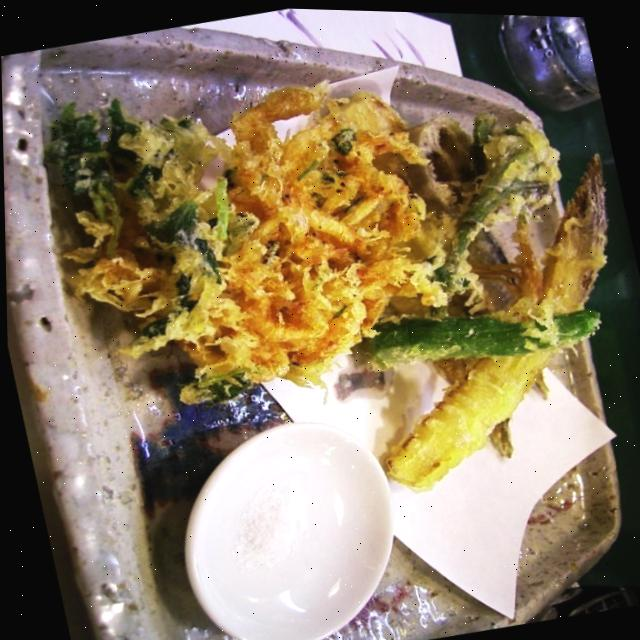蔬菜料理: (0, 21, 640, 541)
